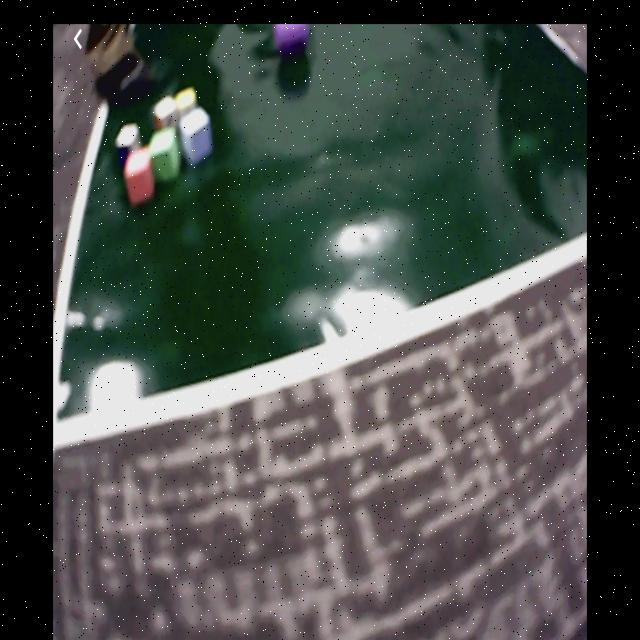ball: (277, 25, 313, 62)
